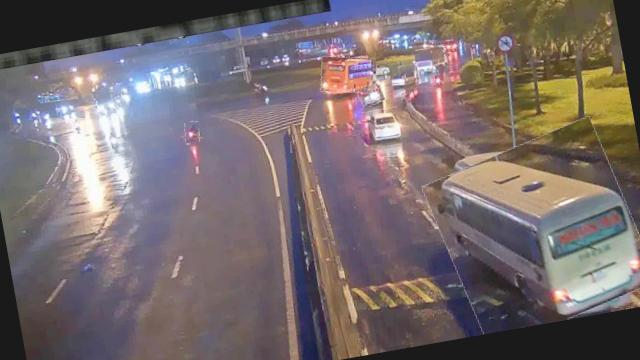Bike: (182, 121, 202, 144)
Bus: (425, 119, 640, 338), (318, 50, 380, 98)
Car: (362, 106, 403, 145), (356, 79, 386, 107), (389, 68, 418, 88)
Truck: (412, 44, 449, 74)
